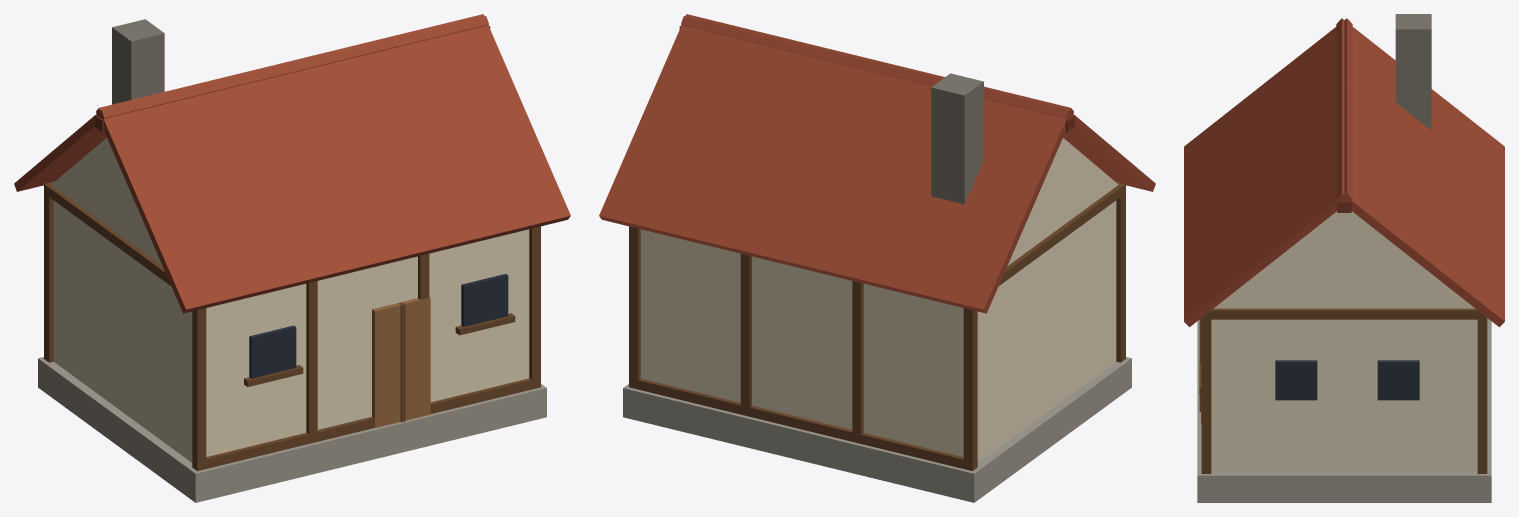
The model's file is house.glb.
3 renders of one model, left to right at view 1: azimuth 30°, elevation 25°; view 2: azimuth 150°, elevation 25°; view 3: azimuth 270°, elevation 25°, orthographic. The views are drawn at different scales.
Visible parts, largest first — view 1: house; view 2: house; view 3: house.
Part boxes in pixels (x1,y1,x2,y2): house: (14,14,570,502); house: (599,14,1155,502); house: (1184,14,1504,502).
Bounding box in the file's own units: 6.95 × 6.4 × 5.35.
